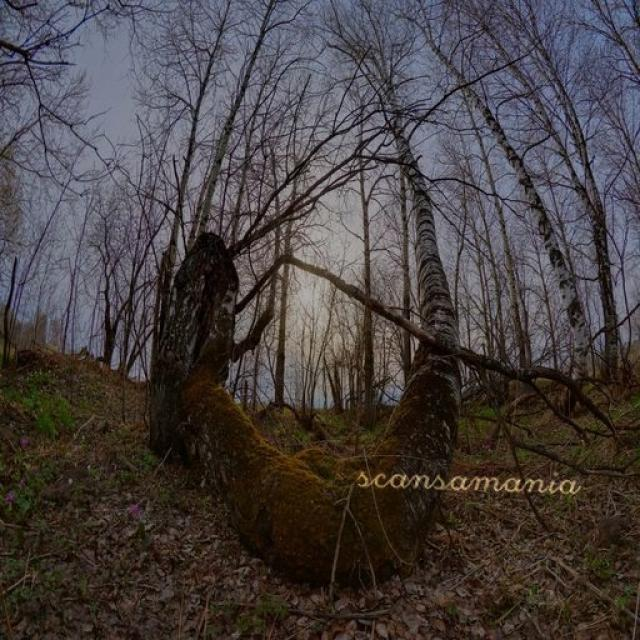watermark: (348, 455, 608, 500)
